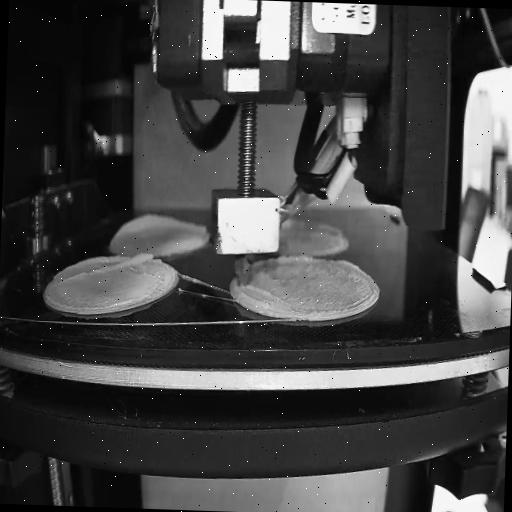over_extrusion: (110, 204, 206, 248), (61, 248, 153, 284), (281, 217, 347, 236), (272, 251, 316, 270), (247, 284, 284, 302), (334, 257, 364, 276)
